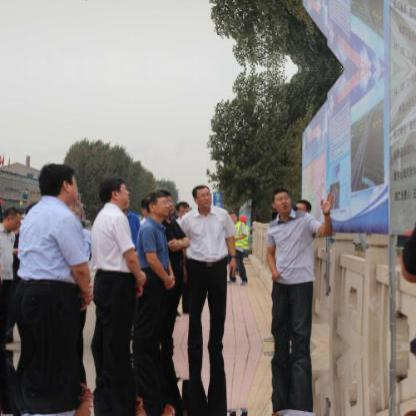head: (36, 162, 76, 206), (97, 173, 131, 208), (142, 191, 167, 220), (0, 202, 23, 232), (269, 186, 292, 214), (192, 180, 213, 210), (295, 198, 312, 223), (161, 186, 175, 216), (177, 198, 191, 223)
